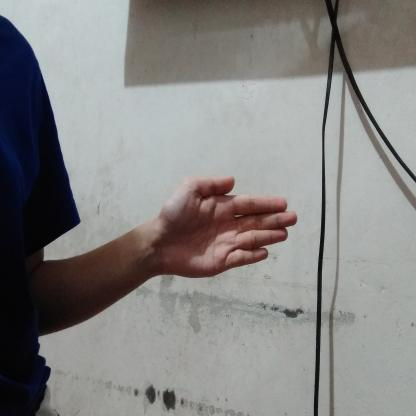ready: (122, 170, 302, 284)
